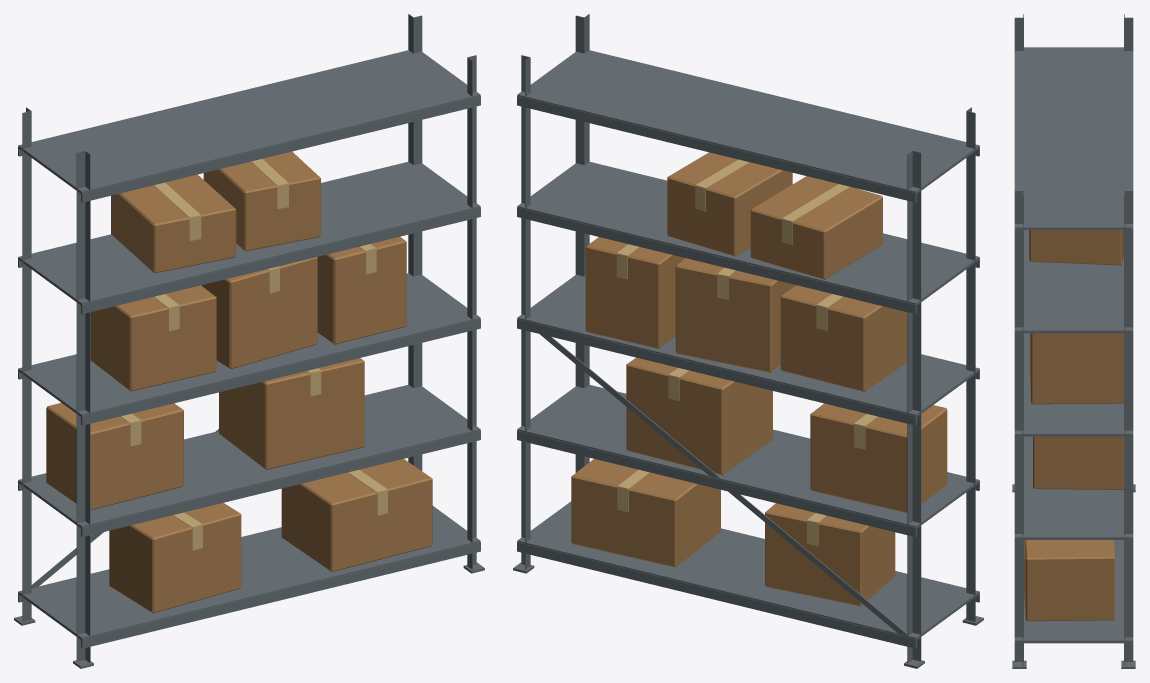
File: EstanteDeAcoCheia.fbx
3 renders of one model, left to right at view 1: azimuth 30°, elevation 25°; view 2: azimuth 150°, elevation 25°; view 3: azimuth 270°, elevation 25°, orthographic. The views are drawn at different scales.
Visible parts, largest first — view 1: EstanteDeAcoCheia; view 2: EstanteDeAcoCheia; view 3: EstanteDeAcoCheia.
Part boxes in pixels (x1=…): EstanteDeAcoCheia: x1=14, y1=14, x2=484, y2=668; EstanteDeAcoCheia: x1=513, y1=14, x2=983, y2=668; EstanteDeAcoCheia: x1=1012, y1=14, x2=1135, y2=668.
Size of the model in its own units: 1.82 by 2.2 by 0.52.
